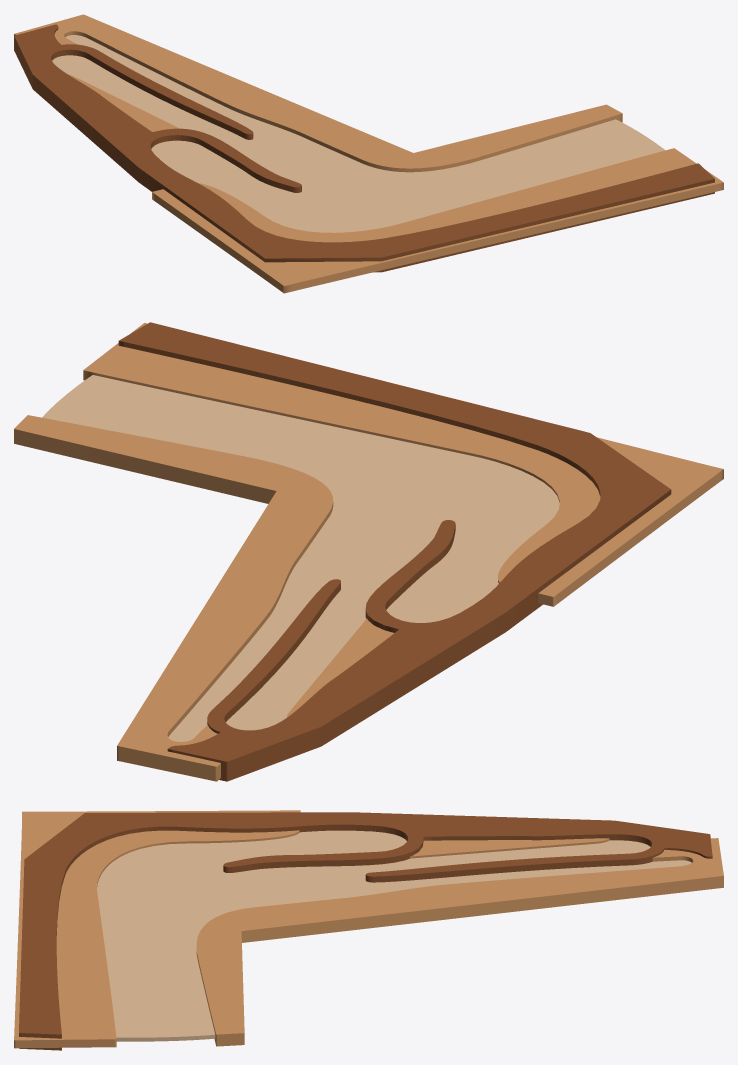
File: emoji_u1faf7_1f3fc.glb
3 renders of one model, top to bottom at view 1: azimuth 30°, elevation 25°; view 2: azimuth 150°, elevation 25°; view 3: azimuth 270°, elevation 25°, orthographic. The views are drawn at different scales.
Visible parts, largest first — view 1: emoji_u1faf7_1f3fc; view 2: emoji_u1faf7_1f3fc; view 3: emoji_u1faf7_1f3fc.
Part boxes in pixels (x1,y1,x2,y2): emoji_u1faf7_1f3fc: (14,14,723,293); emoji_u1faf7_1f3fc: (14,322,723,781); emoji_u1faf7_1f3fc: (14,810,723,1050).
Size of the model in its own units: 0.0248 by 0.0008 by 0.0324.
